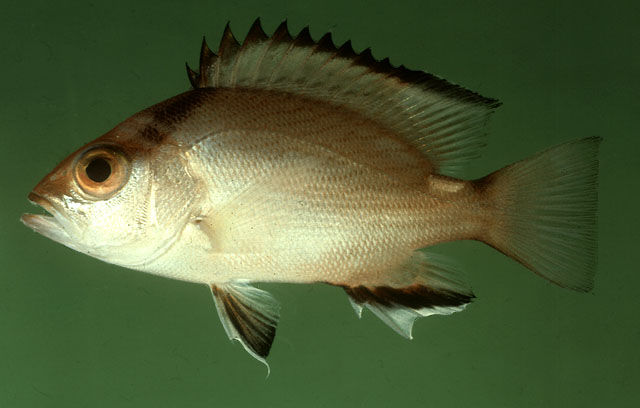fish: (20, 16, 604, 379)
